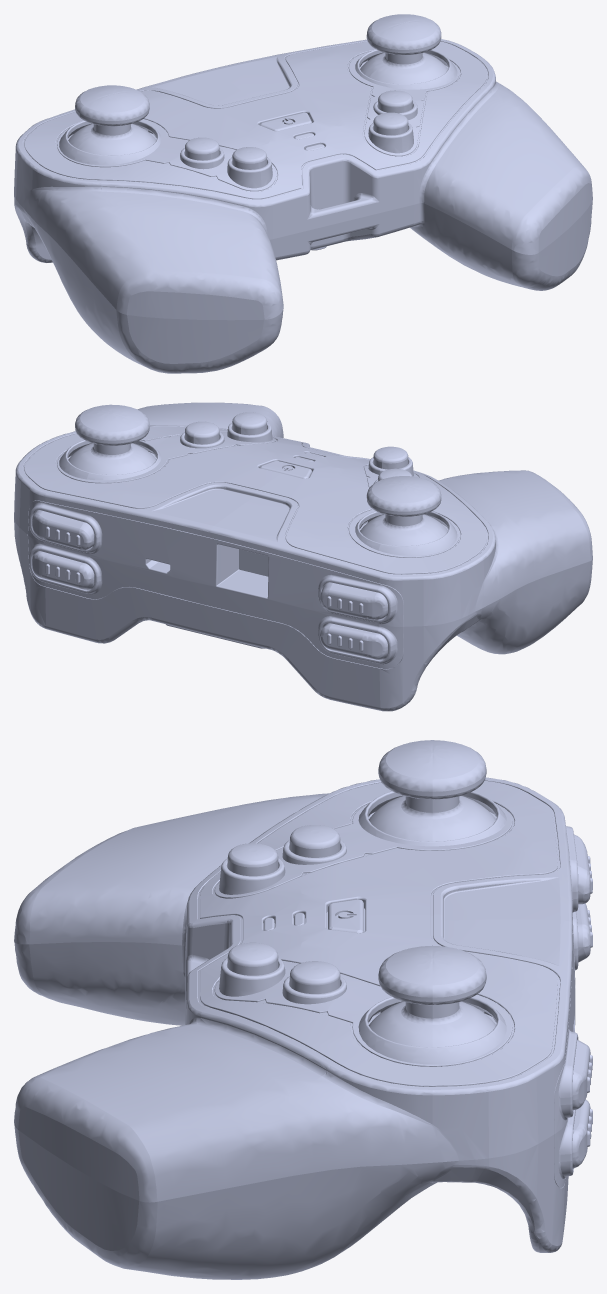
3 renders of one model, top to bottom at view 1: azimuth 30°, elevation 25°; view 2: azimuth 150°, elevation 25°; view 3: azimuth 270°, elevation 25°, orthographic. The views are drawn at different scales.
Parts seen in each view (by area): view 1: 228-2530; view 2: 228-2530; view 3: 228-2530.
Part boxes in pixels (<box>): 228-2530: <box>14,14,592,373</box>; 228-2530: <box>14,402,592,711</box>; 228-2530: <box>14,740,592,1279</box>.
Size of the model in its own units: 5.76 by 2.3 by 4.21.
